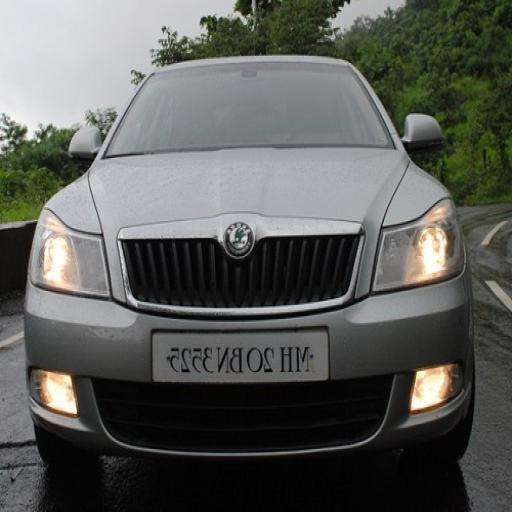License: (143, 322, 332, 392)
